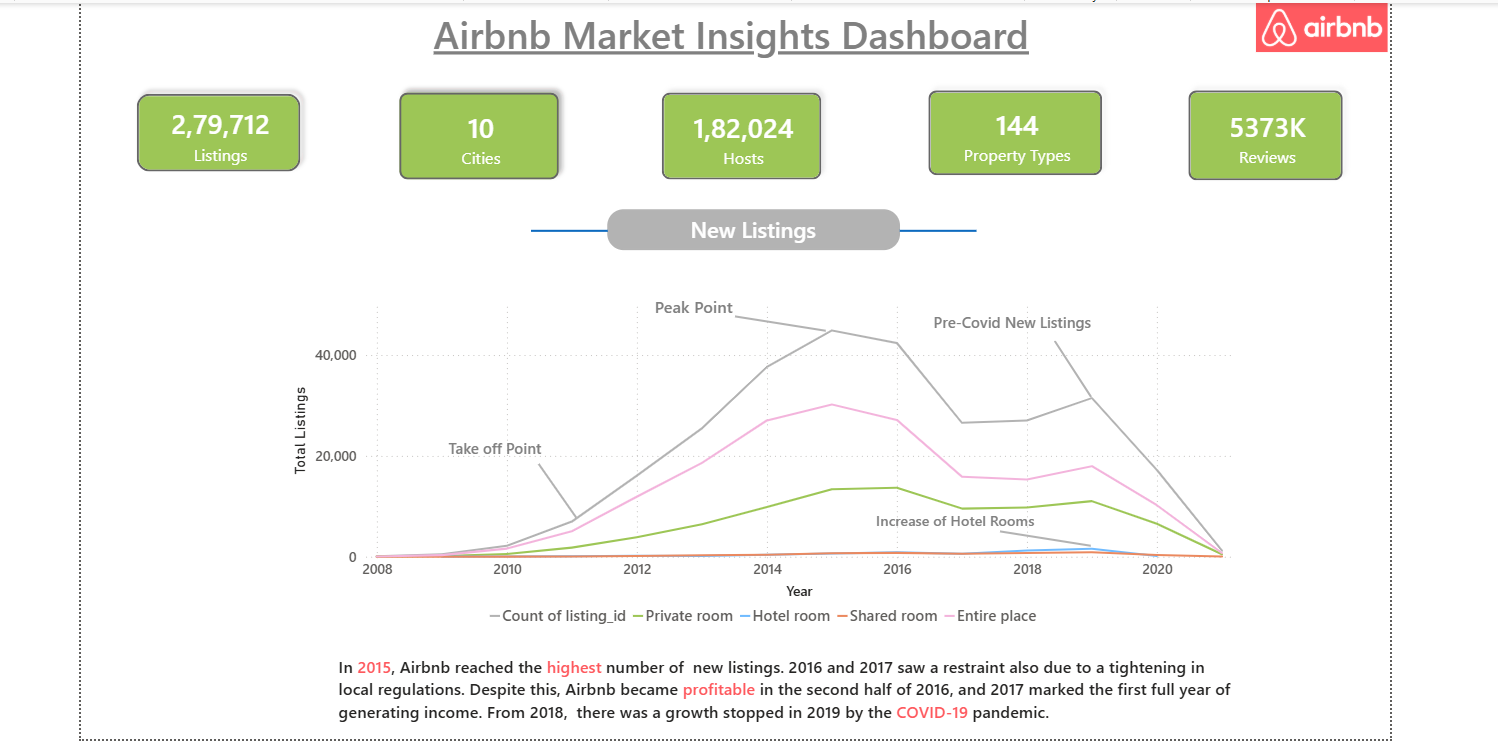

The dashboard page shown, as its layout file describes it:
{"tool":"powerbi","page":{"name":"Overview","canvas":[1280,720],"ordinal":0},"visuals":[{"type":"textbox","box":[340.3,0,657.3,63.1],"z":0},{"type":"image","box":[1147.2,0,133.1,48],"z":1000},{"type":"cardVisual","fields":{"Data":["CountNonNull(Listings.listing_id)"]},"box":[30.8,64.2,208,124.6],"z":2000},{"type":"cardVisual","fields":{"Data":["Count(Listings.property_type)"]},"box":[801.3,57,226.5,139.8],"z":3000},{"type":"cardVisual","fields":{"Data":["Count(Listings.host_id)"]},"box":[543.7,63.4,204.5,133.3],"z":4000},{"type":"cardVisual","fields":{"Data":["Count(Listings.city)"]},"box":[287.4,63.4,204.5,133.3],"z":5000},{"type":"cardVisual","fields":{"Data":["Count(Reviews.review_id)"]},"box":[1055,57,207.1,145],"z":6000},{"type":"textbox","box":[515.2,201.9,286.1,40.1],"z":7000},{"type":"textbox","box":[247.2,633,889.3,76.4],"z":8000},{"type":"shape","box":[801.3,51.8,75.1,343],"z":9000},{"type":"shape","box":[440.1,51.8,75.1,343],"z":10000},{"type":"lineChart","fields":{"Y":["CountNonNull(Listings.listing_id)","Listings.Private room","Listings.Hotel room","Listings.Shared room","Listings.Entire place"],"Category":["Listings.host_since.Variation.Date Hierarchy.Year"]},"box":[201.9,280.9,934.6,337.9],"z":11000},{"type":"shape","box":[440.1,450.5,51.8,54.4],"z":12000},{"type":"textbox","box":[354.7,420.7,169.6,38.8],"z":13000},{"type":"shape","box":[639.5,280.9,89.3,64.7],"z":14000},{"type":"textbox","box":[556.6,280.9,102.3,32.4],"z":15000},{"type":"shape","box":[925.6,330.1,89.3,55.7],"z":16000},{"type":"textbox","box":[828.5,297.7,186.4,33.7],"z":17000},{"type":"shape","box":[898.4,491.9,89.3,64.7],"z":18000},{"type":"textbox","box":[772.8,491.9,170.9,33.7],"z":19000}]}

Visuals, with their boxes on the page's 1280x720 design canvas (x1, y1, x2, y2). These are canvas units, not pixel positions in the 1498x747 screenshot, which may show the page scaled, cropped or inside an application window:
textbox: {"x1": 340, "y1": 0, "x2": 998, "y2": 63}
image: {"x1": 1147, "y1": 0, "x2": 1280, "y2": 48}
cardVisual - CountNonNull(Listings.listing_id): {"x1": 31, "y1": 64, "x2": 239, "y2": 189}
cardVisual - Count(Listings.property_type): {"x1": 801, "y1": 57, "x2": 1028, "y2": 197}
cardVisual - Count(Listings.host_id): {"x1": 544, "y1": 63, "x2": 748, "y2": 197}
cardVisual - Count(Listings.city): {"x1": 287, "y1": 63, "x2": 492, "y2": 197}
cardVisual - Count(Reviews.review_id): {"x1": 1055, "y1": 57, "x2": 1262, "y2": 202}
textbox: {"x1": 515, "y1": 202, "x2": 801, "y2": 242}
textbox: {"x1": 247, "y1": 633, "x2": 1136, "y2": 709}
shape: {"x1": 801, "y1": 52, "x2": 876, "y2": 395}
shape: {"x1": 440, "y1": 52, "x2": 515, "y2": 395}
lineChart - CountNonNull(Listings.listing_id) x Listings.Private room: {"x1": 202, "y1": 281, "x2": 1136, "y2": 619}
shape: {"x1": 440, "y1": 450, "x2": 492, "y2": 505}
textbox: {"x1": 355, "y1": 421, "x2": 524, "y2": 460}
shape: {"x1": 640, "y1": 281, "x2": 729, "y2": 346}
textbox: {"x1": 557, "y1": 281, "x2": 659, "y2": 313}
shape: {"x1": 926, "y1": 330, "x2": 1015, "y2": 386}
textbox: {"x1": 828, "y1": 298, "x2": 1015, "y2": 331}
shape: {"x1": 898, "y1": 492, "x2": 988, "y2": 557}
textbox: {"x1": 773, "y1": 492, "x2": 944, "y2": 526}
